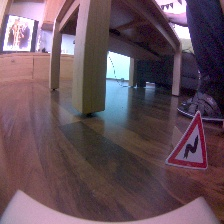vorsicht: (160, 106, 213, 172)
